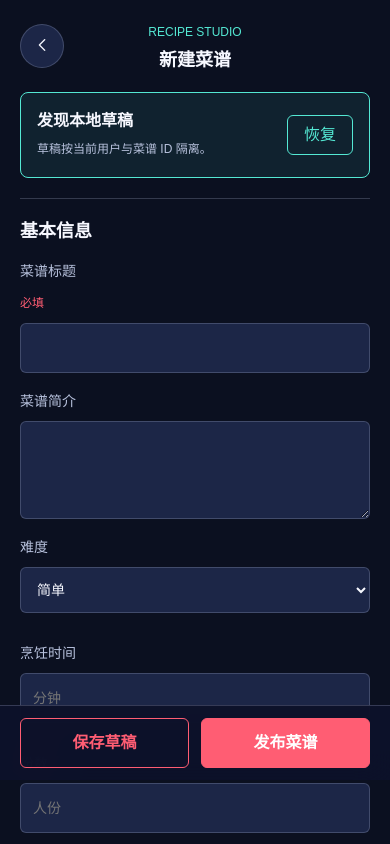
Test case: 菜谱页面 › 脏表单注册离开提醒并可恢复草稿
Click the button with test id "restore-draft" at (320, 135), box [287,115,353,155]
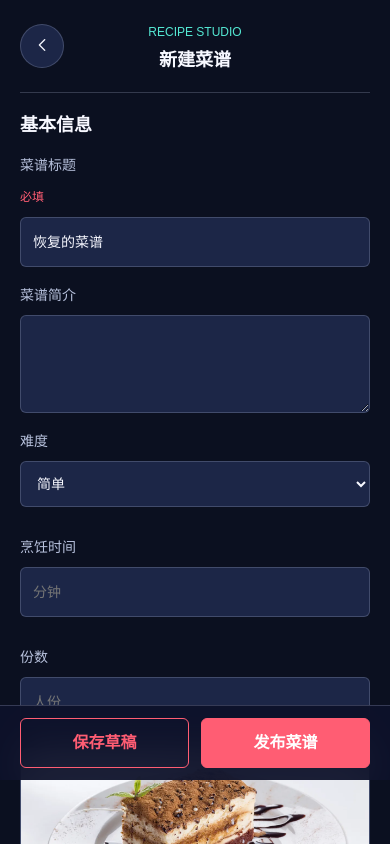
Check: the field with test id "recipe-title" holds "恢复的菜谱", box [20,217,370,267]
